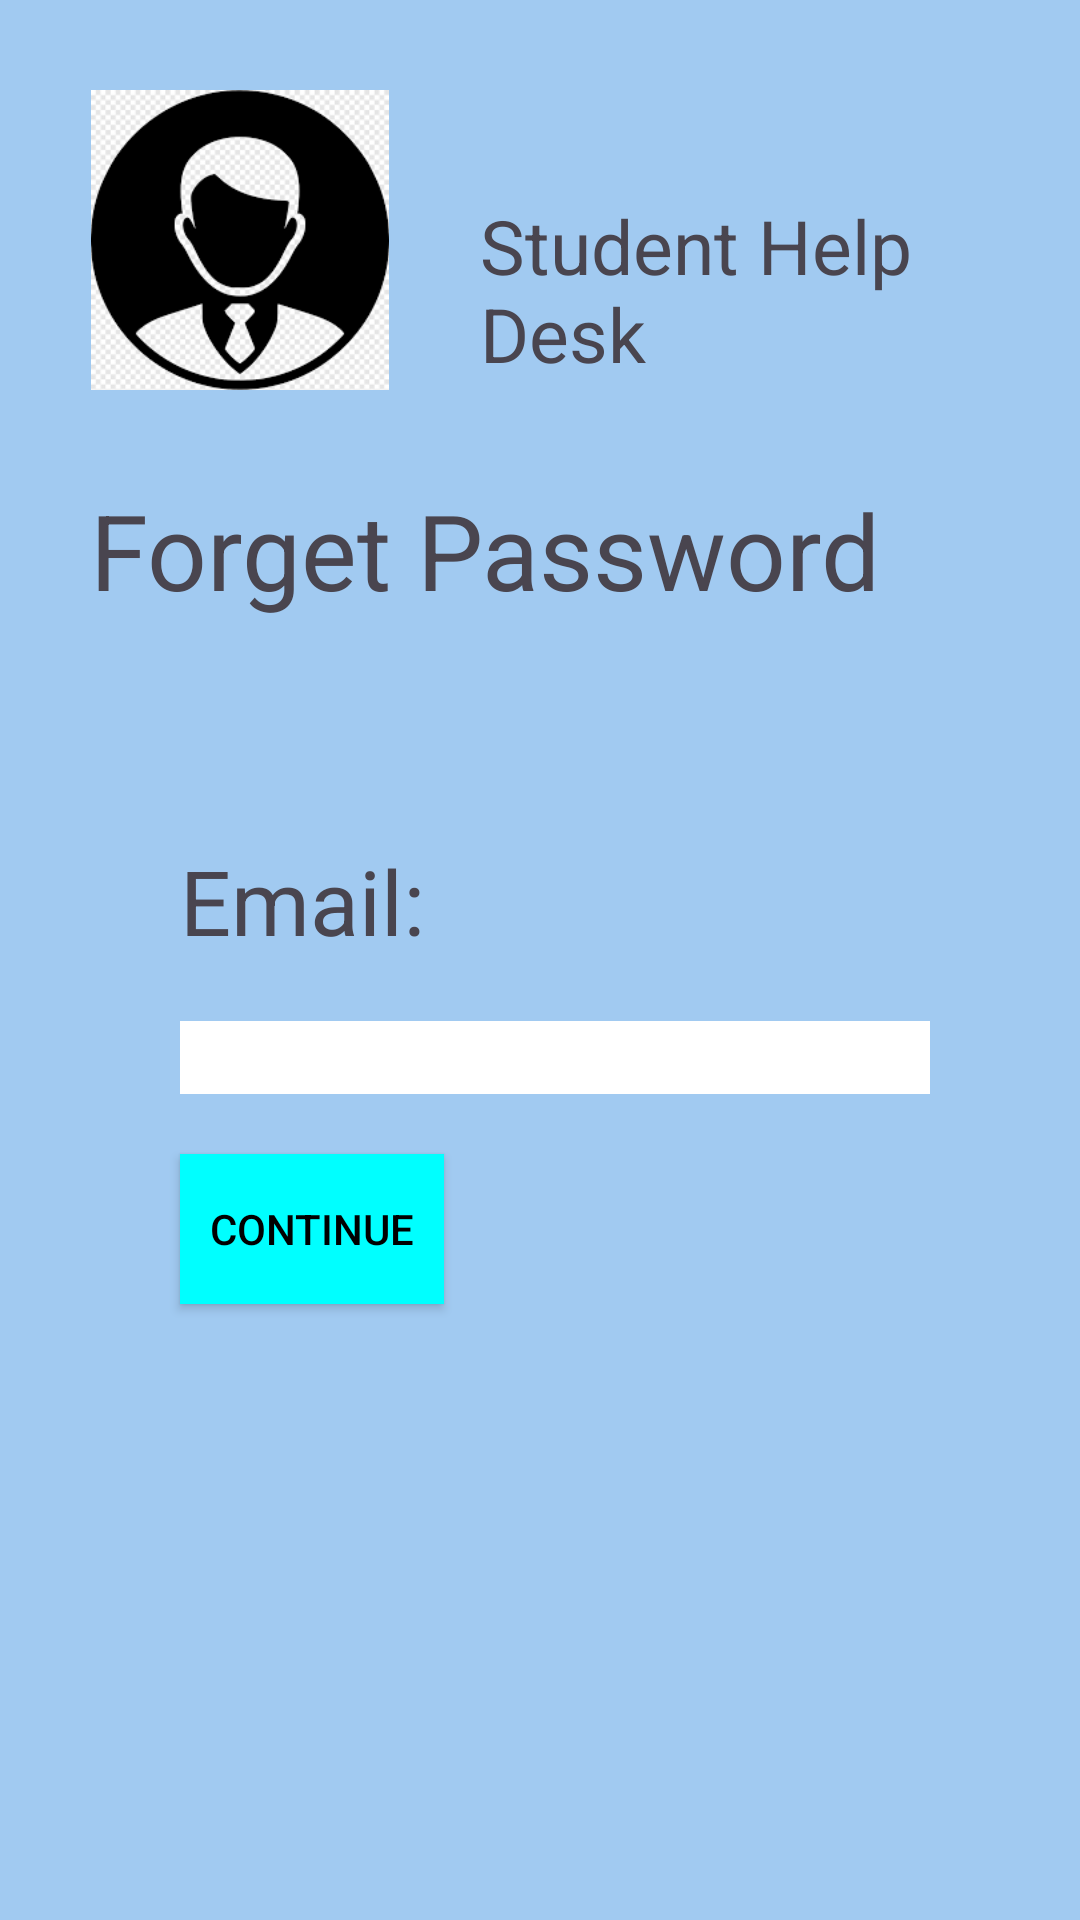

Icon bounding boxes for this 1080×1920 phone screenshot, format (x1, y1, x2, y2):
profile: (91, 90, 389, 390)
